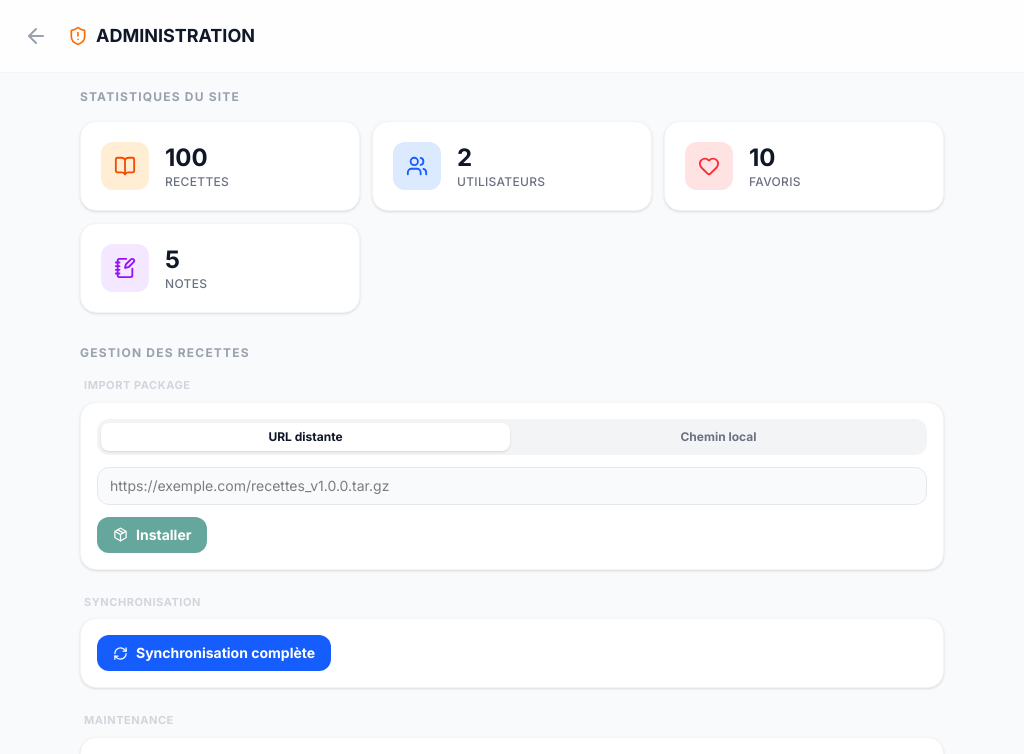
Test: AdminPage — sync progress › affiche la barre de progression pendant la sync
The width and height of the screenshot is (1024, 754).
Click the button "Synchronisation complète" at (214, 653), box [97, 635, 331, 671]
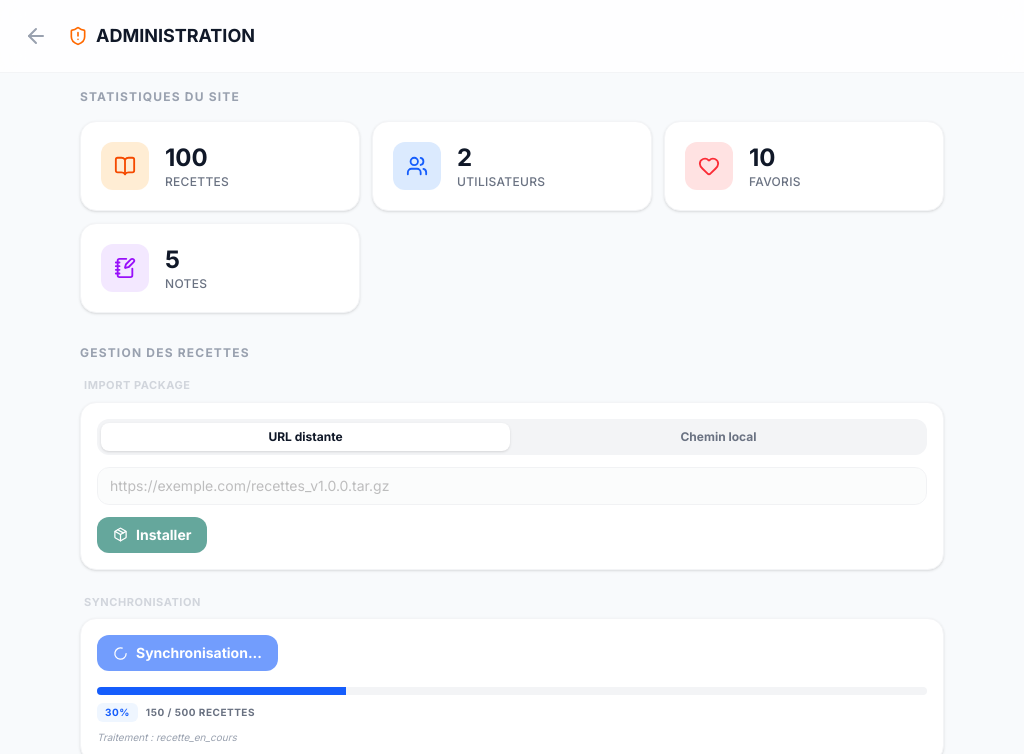
Result: the text "150 / 500 recettes" is shown at [146, 705, 255, 720]
Result: the text "Traitement : recette_en_cours" is shown at [97, 731, 237, 743]
